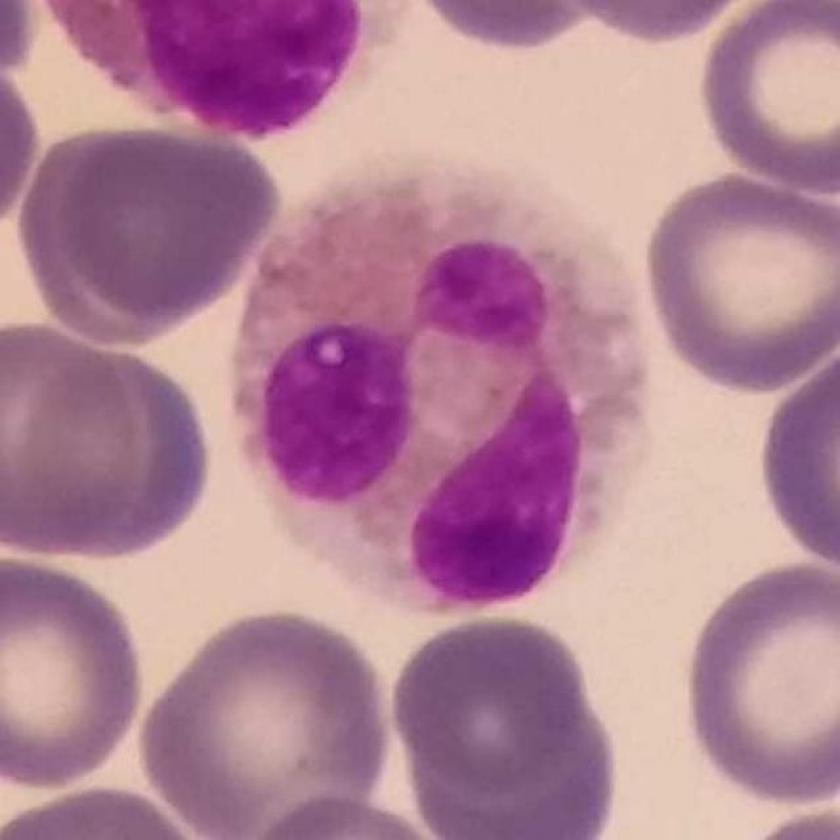eosinophil: (237, 174, 659, 623), (45, 1, 410, 147)
